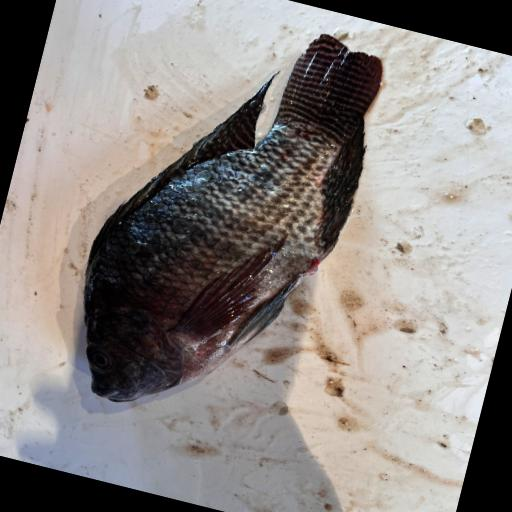Tilapia: (56, 0, 393, 447)
